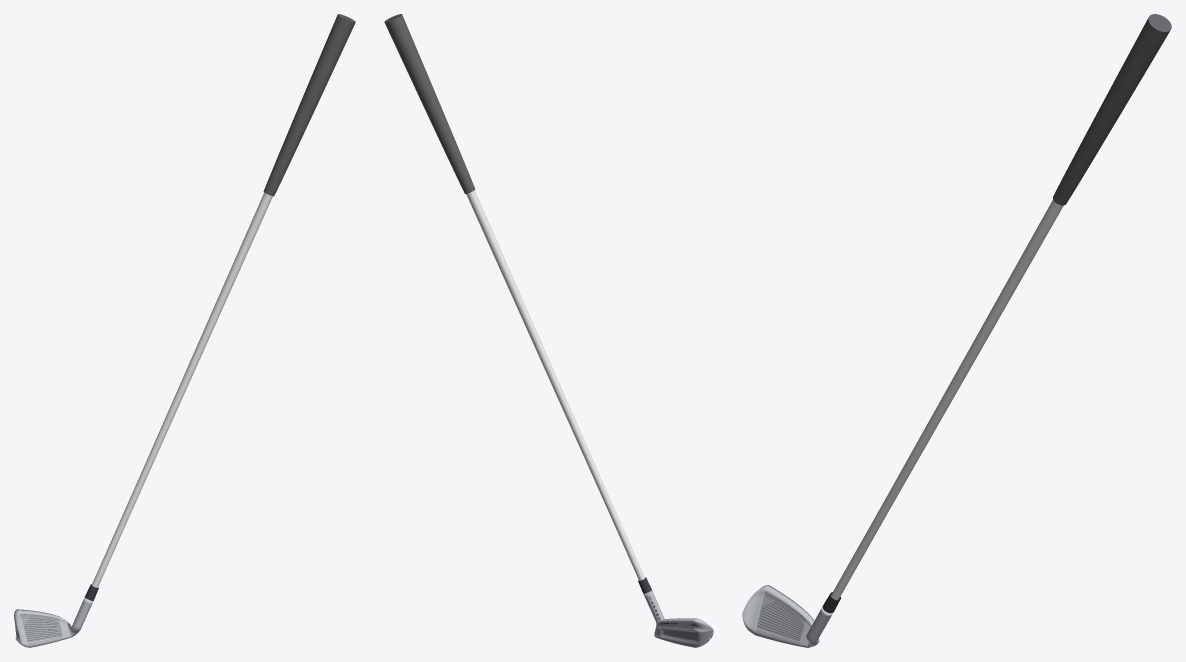
Rendered from 101-mkii.glb.
3 renders of one model, left to right at view 1: azimuth 30°, elevation 25°; view 2: azimuth 150°, elevation 25°; view 3: azimuth 330°, elevation 25°, orthographic. The views are drawn at different scales.
Parts seen in each view (by area): view 1: Shaft_AR, Grip_AR, 101-mkii; view 2: Shaft_AR, Grip_AR, 101-mkii; view 3: Shaft_AR, Grip_AR, 101-mkii.
Part boxes in pixels (left/top/right/bottom): Shaft_AR: left=91, top=192, right=272, bottom=587; Grip_AR: left=263, top=14, right=355, bottom=196; 101-mkii: left=14, top=597, right=93, bottom=647; Shaft_AR: left=466, top=190, right=644, bottom=580; Grip_AR: left=384, top=14, right=475, bottom=193; 101-mkii: left=643, top=590, right=713, bottom=647; Shaft_AR: left=831, top=199, right=1063, bottom=600; Grip_AR: left=1053, top=14, right=1171, bottom=205; 101-mkii: left=742, top=585, right=833, bottom=647.
Bounding box in the file's own units: 0.5237 × 0.8393 × 0.0492.
Materials: 4 (1 with a texture image).
